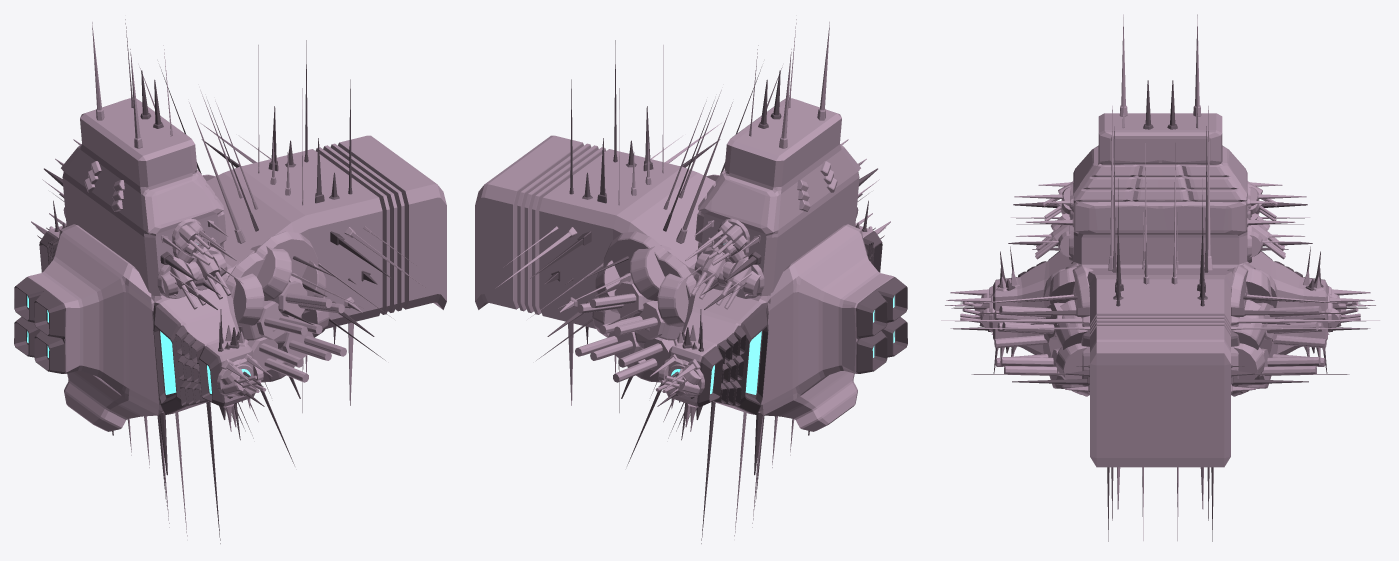
The model's file is pvais10.fbx.
3 views of the same model, side by side, from view 1: azimuth 30°, elevation 25°; view 2: azimuth 150°, elevation 25°; view 3: azimuth 270°, elevation 25° (orthographic). The views are drawn at different scales.
Visible parts, largest first — view 1: Spaceship; view 2: Spaceship; view 3: Spaceship.
Part boxes in pixels (x1,y1,x2,y2): Spaceship: (14, 19, 446, 543); Spaceship: (475, 19, 907, 543); Spaceship: (941, 14, 1379, 541).
Bounding box in the file's own units: 441 × 576 × 470.
